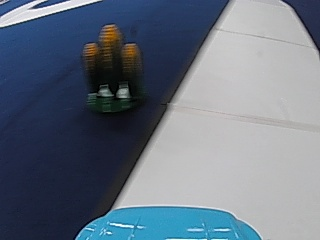corn: (78, 20, 146, 117)
